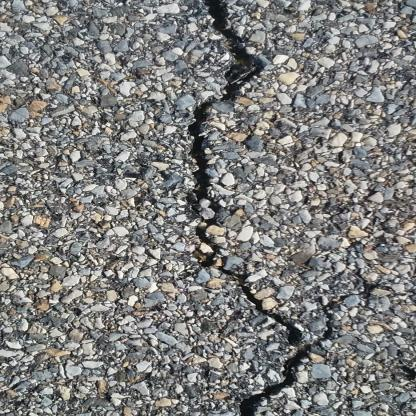Cracks: (138, 0, 303, 416)
